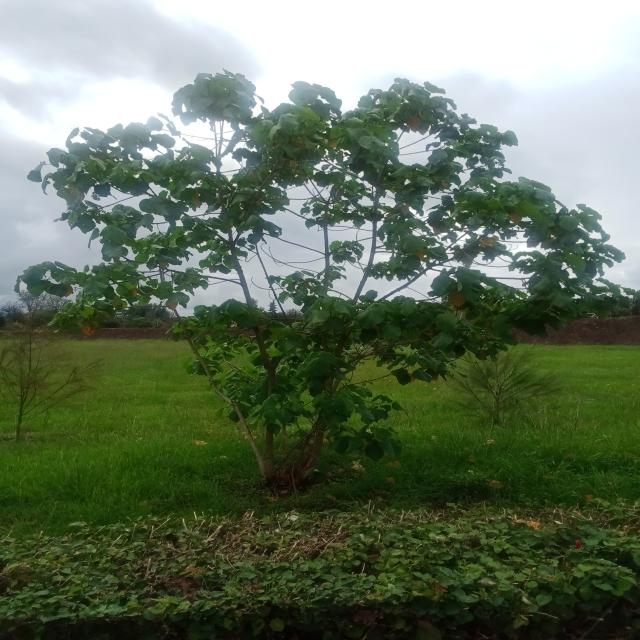Croton machrostychus: (23, 67, 629, 475)
